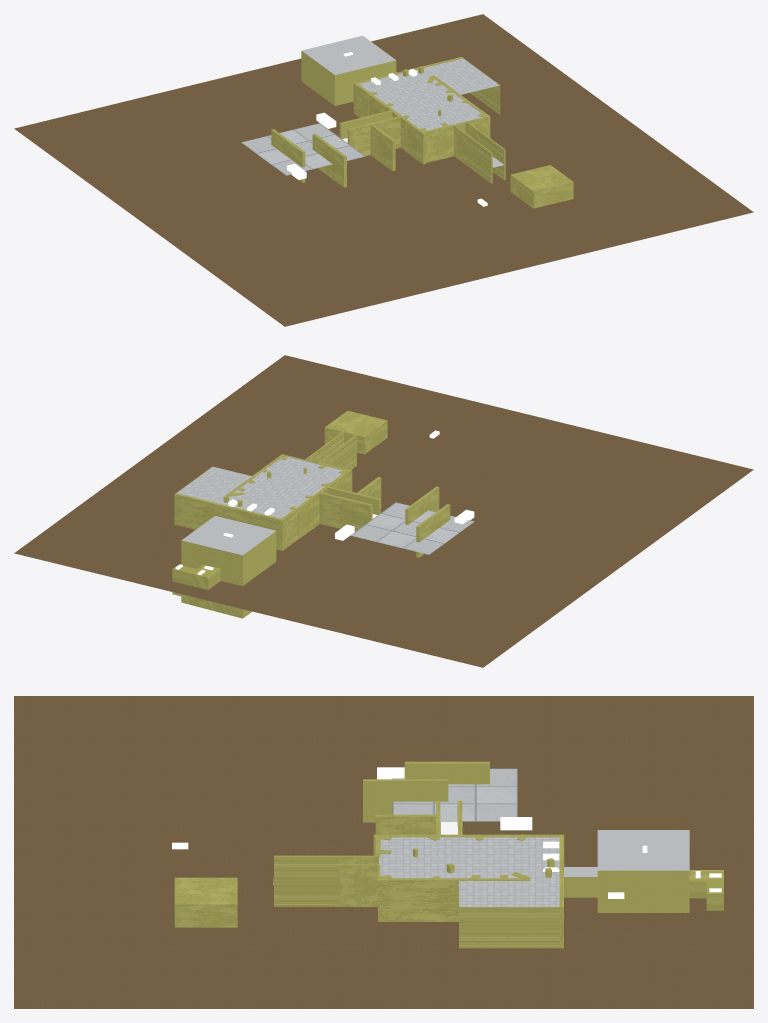
The picture shows the model from 3 angles, top to bottom: view 1: azimuth 30°, elevation 25°; view 2: azimuth 150°, elevation 25°; view 3: azimuth 270°, elevation 25°; orthographic projection. The views are drawn at different scales.
Parts seen in each view (by area): view 1: backrooms.001_2, backrooms_0; view 2: backrooms.001_2, backrooms_0; view 3: backrooms.001_2, backrooms_0.
Boxes of the visible parts, x1,y1,x2,y2 form: backrooms.001_2: [14, 14, 753, 326]; backrooms_0: [158, 34, 612, 249]; backrooms.001_2: [14, 355, 753, 667]; backrooms_0: [97, 410, 546, 632]; backrooms.001_2: [14, 696, 753, 1008]; backrooms_0: [168, 761, 753, 953].
Size of the model in its own units: 96.11 by 13.24 by 96.11.
7 materials, 3 textured.
